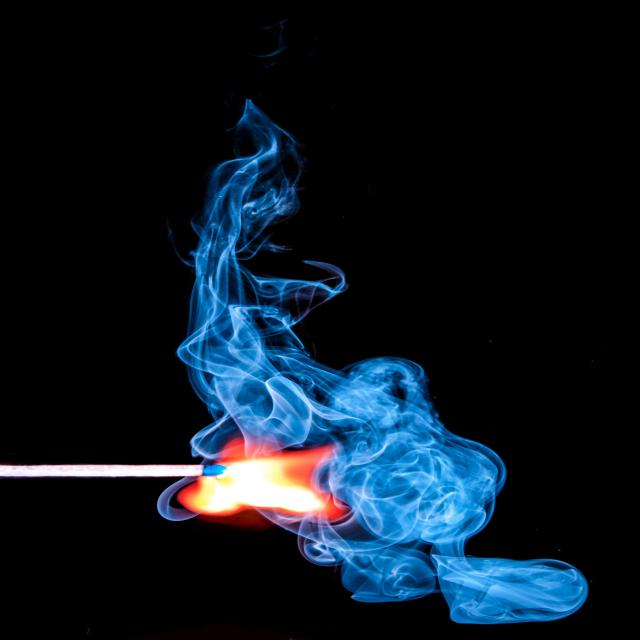fire: (175, 307, 441, 577)
